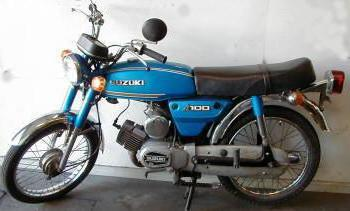motorcycle: (2, 1, 350, 211)
